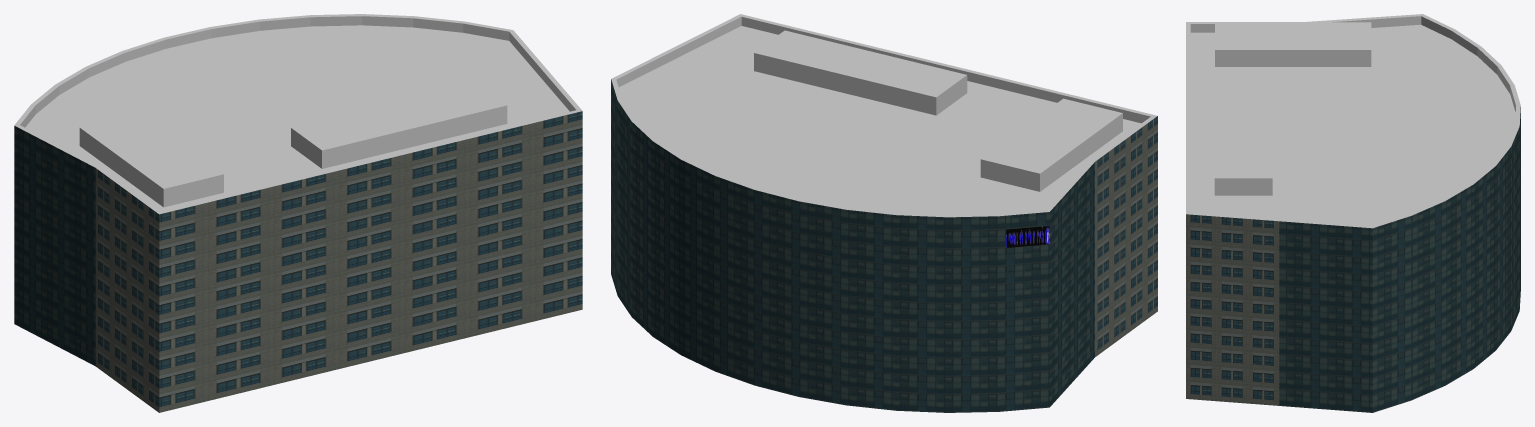
File: BUILDINGOFFICE1.gltf
The picture shows the model from 3 angles, left to right: view 1: azimuth 30°, elevation 25°; view 2: azimuth 150°, elevation 25°; view 3: azimuth 270°, elevation 25°; orthographic projection. The views are drawn at different scales.
Parts seen in each view (by area): view 1: node4, node3, node2; view 2: node2, node3, node4, node5; view 3: node3, node2, node4.
Part boxes in pixels (x1,y1,x2,y2): node4: [95, 111, 582, 412]; node3: [14, 14, 582, 214]; node2: [14, 126, 95, 366]; node2: [611, 79, 1094, 412]; node3: [611, 14, 1157, 217]; node4: [1095, 116, 1157, 356]; node5: [1006, 226, 1049, 247]; node3: [1186, 14, 1520, 228]; node2: [1279, 107, 1520, 412]; node4: [1186, 214, 1279, 405].
Size of the model in its own units: 53.5 by 22.5 by 35.33.
